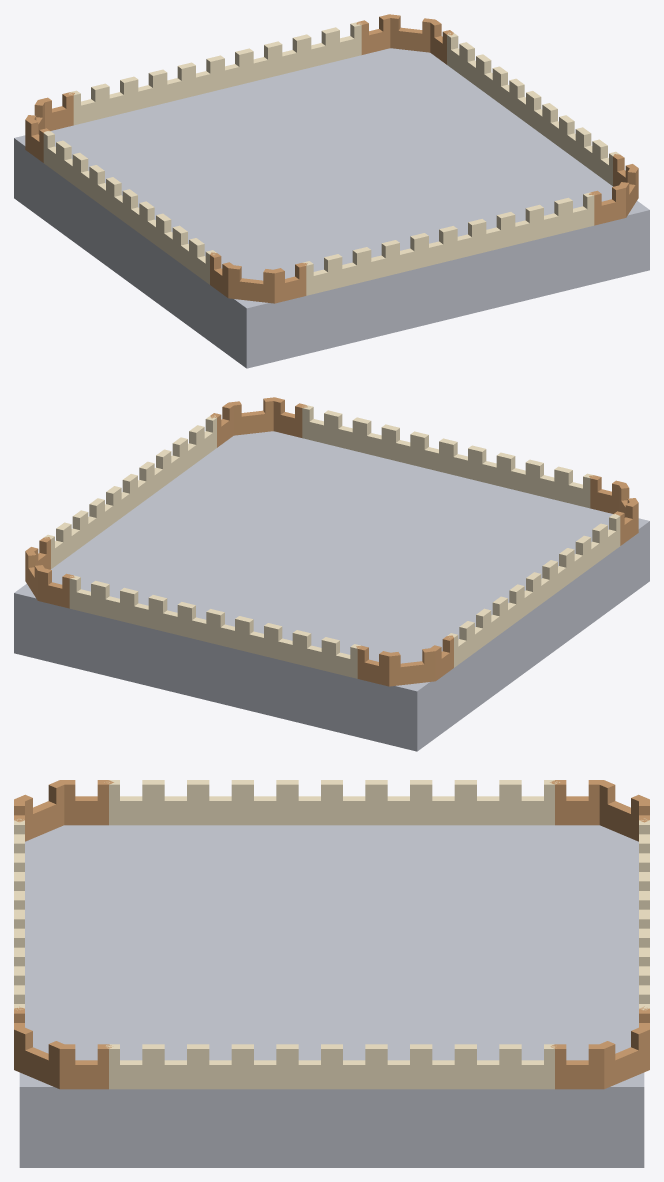
File: diorama_base.glb
The picture shows the model from 3 angles, top to bottom: view 1: azimuth 30°, elevation 25°; view 2: azimuth 150°, elevation 25°; view 3: azimuth 270°, elevation 25°; orthographic projection. The views are drawn at different scales.
Visible parts, largest first — view 1: mergedBlocks(Clone); view 2: mergedBlocks(Clone); view 3: mergedBlocks(Clone).
Boxes of the visible parts, x1,y1,x2,y2 form: mergedBlocks(Clone): [14, 14, 649, 368]; mergedBlocks(Clone): [14, 397, 649, 751]; mergedBlocks(Clone): [14, 780, 649, 1167].
Size of the model in its own units: 7.12 by 1.5 by 7.12.
